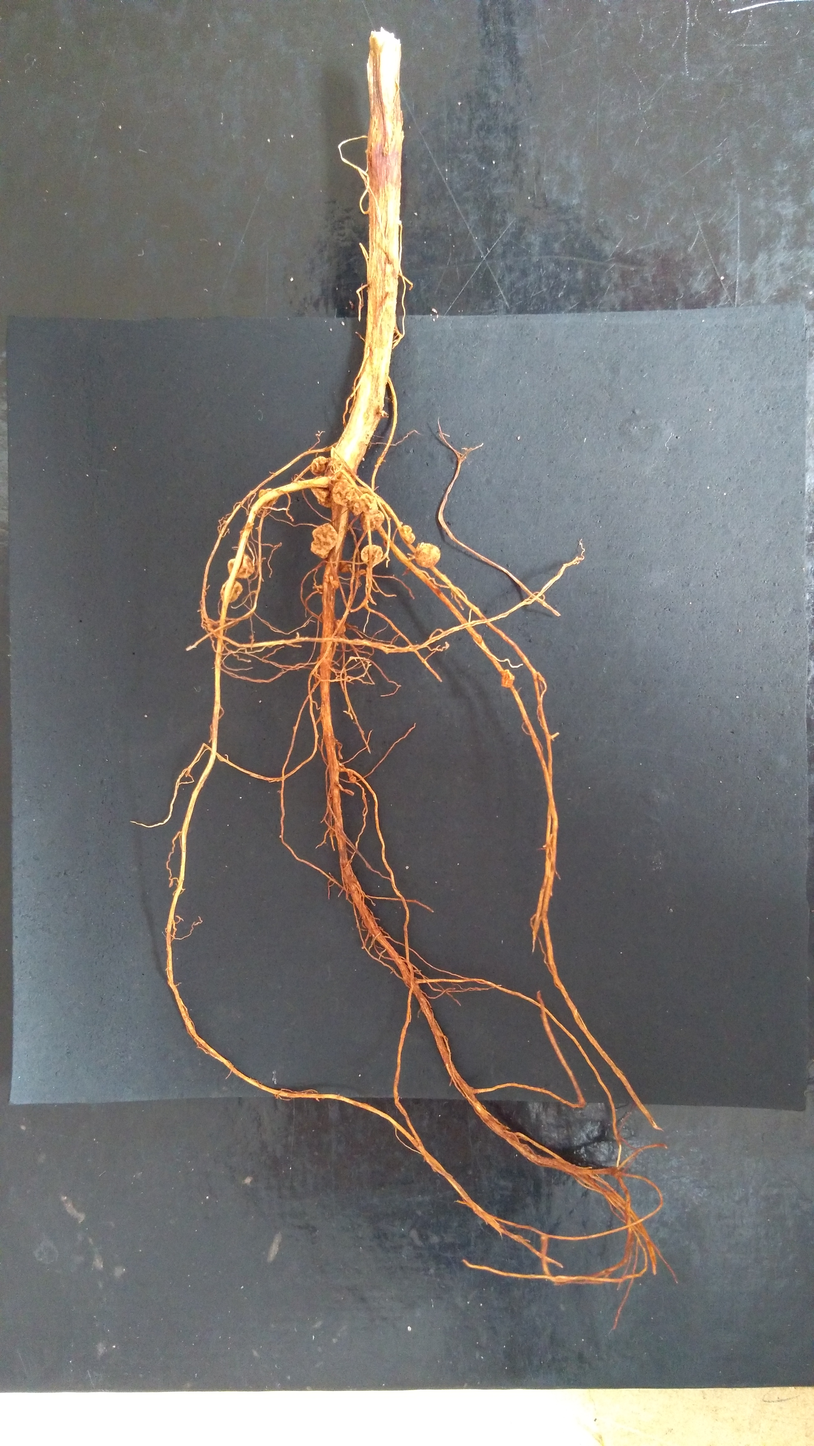nodule: (310, 523, 339, 559), (332, 479, 360, 508), (311, 475, 333, 508), (414, 542, 440, 569), (227, 554, 255, 579), (327, 470, 357, 493), (359, 509, 385, 533), (360, 544, 384, 568), (220, 579, 243, 604), (359, 492, 378, 515), (311, 455, 329, 477), (259, 488, 281, 506), (346, 498, 365, 516), (324, 459, 344, 476), (399, 525, 416, 544), (501, 669, 515, 689), (356, 485, 374, 498), (339, 558, 351, 574), (334, 619, 346, 634), (329, 573, 339, 590), (379, 409, 390, 419), (349, 775, 356, 783), (347, 770, 354, 778), (247, 522, 254, 530), (324, 573, 329, 584), (359, 568, 365, 575), (355, 571, 360, 578), (240, 530, 243, 534)
